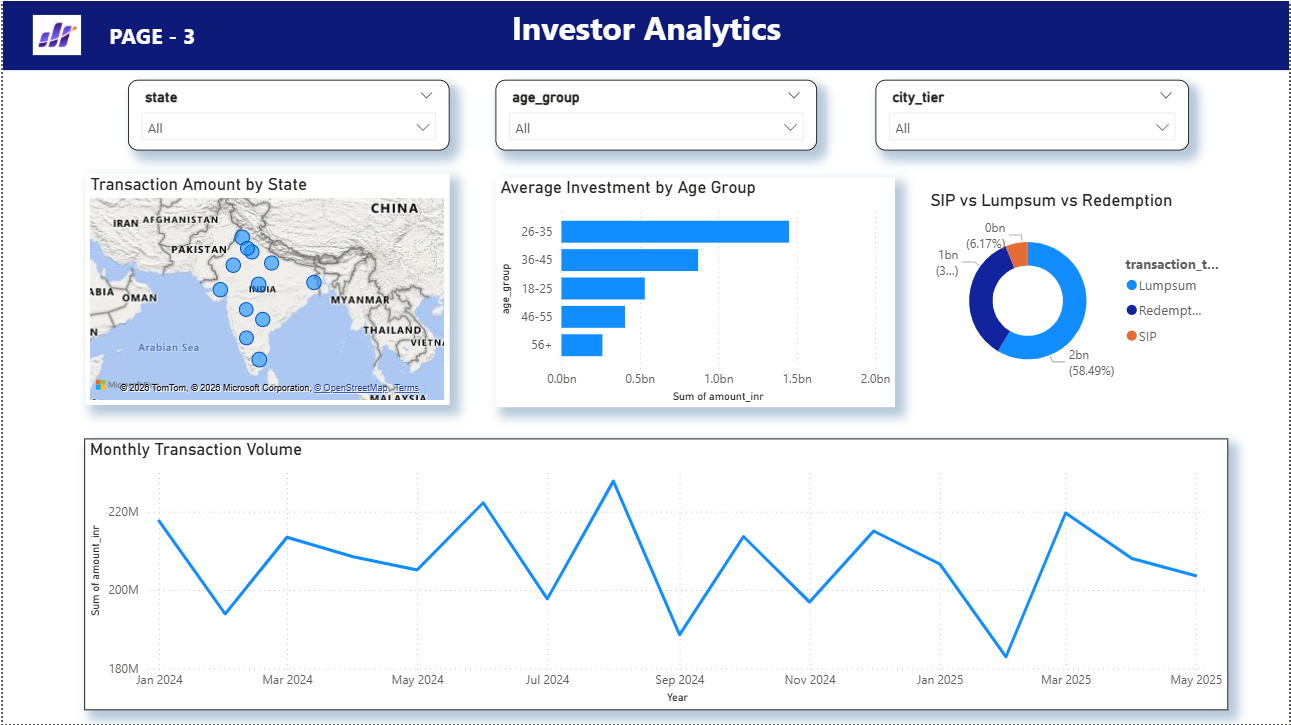

The page's visual inventory and layout, read from the dashboard file:
{"tool":"powerbi","page":{"name":"Investor Analytics","canvas":[1280,720],"ordinal":2},"visuals":[{"type":"textbox","box":[0,0,1280.3,68.6],"z":0},{"type":"map","title":"Transaction Amount by State","fields":{"Category":["08_investor_transactions.state"],"Size":["Sum(08_investor_transactions.amount_inr)"]},"box":[82,172,362,230],"z":1000},{"type":"donutChart","title":"SIP vs Lumpsum vs Redemption","fields":{"Category":["08_investor_transactions.transaction_type"],"Y":["Sum(08_investor_transactions.amount_inr)"]},"box":[918,188,302,202],"z":2000},{"type":"clusteredBarChart","title":"Average Investment by Age Group","fields":{"Category":["08_investor_transactions.age_group"],"Y":["Sum(08_investor_transactions.amount_inr)"]},"box":[489.9,175.6,397.9,229.2],"z":3000},{"type":"lineChart","title":"Monthly Transaction Volume","fields":{"Y":["Sum(08_investor_transactions.amount_inr)"],"Category":["08_investor_transactions.transaction_date.Variation.Date Hierarchy.Year","08_investor_transactions.transaction_date.Variation.Date Hierarchy.Month"]},"box":[81.4,435.7,1138.6,270],"z":4000},{"type":"slicer","fields":{"Values":["08_investor_transactions.city_tier"]},"box":[868,78,312,70],"z":5000},{"type":"slicer","fields":{"Values":["08_investor_transactions.state"]},"box":[124,78,320,70],"z":6000},{"type":"slicer","fields":{"Values":["08_investor_transactions.age_group"]},"box":[490,78,320,70],"z":7000},{"type":"textbox","box":[100.2,15.1,299.1,38.4],"z":7001},{"type":"image","box":[24.7,6.9,57.6,53.5],"z":7002}]}

Visuals, with their boxes in screenshot pixels (x1, y1, x2, y2), scaled from the page's 1280x720 canvas onto the 1291x725 screenshot:
textbox: 0:0:1290:69
"Transaction Amount by State" map: 83:173:448:405
"SIP vs Lumpsum vs Redemption" donutChart: 926:189:1230:393
"Average Investment by Age Group" clusteredBarChart: 494:177:895:408
"Monthly Transaction Volume" lineChart: 82:439:1230:711
slicer - 08_investor_transactions.city_tier: 875:79:1190:149
slicer - 08_investor_transactions.state: 125:79:448:149
slicer - 08_investor_transactions.age_group: 494:79:817:149
textbox: 101:15:403:54
image: 25:7:83:61
